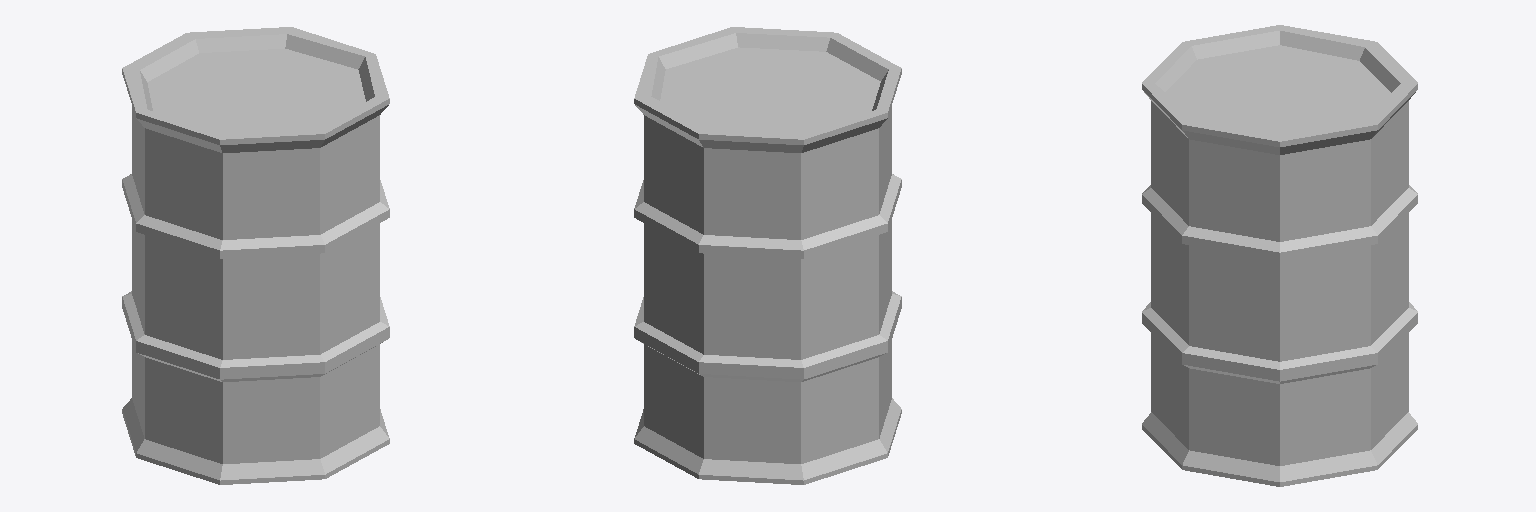
Rendered from Drum.obj.
The picture shows the model from 3 angles: view 1: azimuth 30°, elevation 25°; view 2: azimuth 150°, elevation 25°; view 3: azimuth 270°, elevation 25°; orthographic projection.
Visible parts, largest first — view 1: drum_and_crate; view 2: drum_and_crate; view 3: drum_and_crate.
Part boxes in pixels (left/top/right/bottom): drum_and_crate: left=122, top=27, right=389, bottom=484; drum_and_crate: left=634, top=27, right=901, bottom=484; drum_and_crate: left=1142, top=25, right=1417, bottom=486.
Bounding box in the file's own units: 0.8112 × 1.12 × 0.8112.